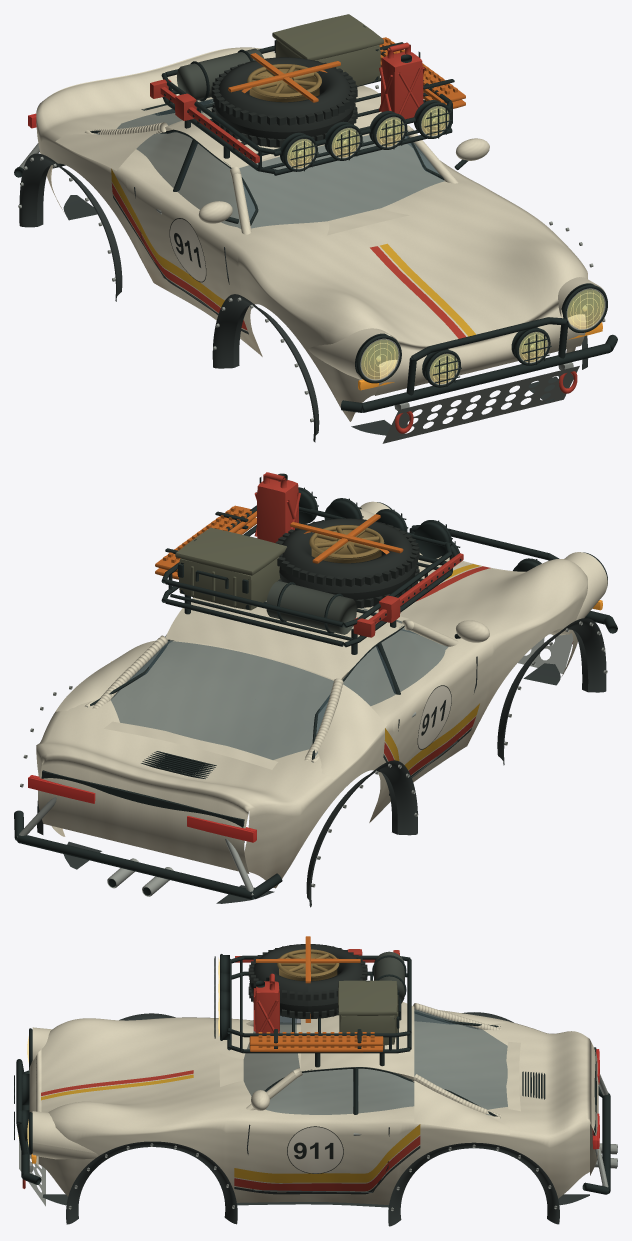
Rendered from safari-body.glb.
3 views of the same model, one above another, from view 1: azimuth 30°, elevation 25°; view 2: azimuth 150°, elevation 25°; view 3: azimuth 270°, elevation 25° (orthographic). The views are drawn at different scales.
Parts seen in each view (by area): view 1: body.continuous_bonnet_shoulders_rear_deck.safari.cream_enam, body.side_with_open_arches.-1.safari.cream_enamel, cabin.front_windscreen.safari.smoky_glazing, cargo.full_size_spare.safari.rubber, arch.flare_shell.safari.charcoal_flare, cargo.olive_gear_case.safari.olive_case, lamps.roof_aux.safari.coated_steel, front.safari.coated_steel, cabin.curved_side_glazing.safari.smoky_glazing, front.safari.brushed_alloy, body.rounded_front_valance.safari.cream_enamel, rack.safari.coated_steel (+24 smaller); view 2: body.continuous_bonnet_shoulders_rear_deck.safari.cream_enam, cabin.rear_glass_same_continuous_roof_arc.safari.smoky_glazi, body.side_with_open_arches.-1.safari.cream_enamel, body.rounded_rear_valance.safari.cream_enamel, cabin.rounded_roof_crown.safari.cream_enamel, cargo.full_size_spare.safari.rubber, cargo.olive_gear_case.safari.olive_case, rear.safari.coated_steel, rack.safari.coated_steel, cabin.sculpted_closed_rear_quarter.safari.cream_enamel, arch.flare_shell.safari.charcoal_flare, cabin.curved_side_glazing.safari.smoky_glazing (+21 smaller); view 3: body.continuous_bonnet_shoulders_rear_deck.safari.cream_enam, body.side_with_open_arches.1.safari.cream_enamel, cabin.rear_glass_same_continuous_roof_arc.safari.smoky_glazi, cabin.curved_side_glazing.safari.smoky_glazing, arch.flare_shell.safari.charcoal_flare, cargo.full_size_spare.safari.rubber, cargo.olive_gear_case.safari.olive_case, cabin.rounded_roof_crown.safari.cream_enamel, cabin.sculpted_closed_rear_quarter.safari.cream_enamel, rack.safari.coated_steel, cargo.stacked_traction_boards.safari.recovery_orange, livery.conformed_911_roundel.safari.911_roundel (+25 smaller).
Boxes of the visible parts, x1,y1,x2,y2 form: body.continuous_bonnet_shoulders_rear_deck.safari.cream_enam: [36, 47, 587, 347]; body.side_with_open_arches.-1.safari.cream_enamel: [36, 117, 377, 421]; cabin.front_windscreen.safari.smoky_glazing: [239, 135, 444, 228]; cargo.full_size_spare.safari.rubber: [211, 57, 357, 147]; arch.flare_shell.safari.charcoal_flare: [19, 153, 319, 442]; cargo.olive_gear_case.safari.olive_case: [272, 14, 383, 85]; lamps.roof_aux.safari.coated_steel: [280, 100, 452, 171]; front.safari.coated_steel: [340, 317, 617, 412]; cabin.curved_side_glazing.safari.smoky_glazing: [95, 132, 436, 228]; front.safari.brushed_alloy: [382, 362, 579, 443]; body.rounded_front_valance.safari.cream_enamel: [375, 303, 585, 395]; rack.safari.coated_steel: [161, 45, 452, 175]; body.continuous_bonnet_shoulders_rear_deck.safari.cream_enam: [36, 509, 587, 809]; cabin.rear_glass_same_continuous_roof_arc.safari.smoky_glazi: [111, 641, 333, 759]; body.side_with_open_arches.-1.safari.cream_enamel: [244, 582, 587, 888]; body.rounded_rear_valance.safari.cream_enamel: [38, 756, 249, 873]; cabin.rounded_roof_crown.safari.cream_enamel: [165, 597, 404, 679]; cargo.full_size_spare.safari.rubber: [275, 518, 419, 608]; cargo.olive_gear_case.safari.olive_case: [175, 527, 286, 610]; rear.safari.coated_steel: [14, 751, 282, 899]; rack.safari.coated_steel: [161, 505, 452, 654]; cabin.sculpted_closed_rear_quarter.safari.cream_enamel: [55, 640, 386, 779]; arch.flare_shell.safari.charcoal_flare: [306, 618, 606, 907]; cabin.curved_side_glazing.safari.smoky_glazing: [132, 628, 447, 756]; body.continuous_bonnet_shoulders_rear_deck.safari.cream_enam: [38, 1014, 589, 1139]; body.side_with_open_arches.1.safari.cream_enamel: [38, 1122, 589, 1204]; cabin.rear_glass_same_continuous_roof_arc.safari.smoky_glazi: [414, 1008, 507, 1109]; cabin.curved_side_glazing.safari.smoky_glazing: [265, 1014, 492, 1115]; arch.flare_shell.safari.charcoal_flare: [66, 1012, 559, 1226]; cargo.full_size_spare.safari.rubber: [248, 944, 367, 1018]; cargo.olive_gear_case.safari.olive_case: [338, 980, 398, 1045]; cabin.rounded_roof_crown.safari.cream_enamel: [301, 1002, 414, 1077]; cabin.sculpted_closed_rear_quarter.safari.cream_enamel: [414, 1010, 509, 1134]; rack.safari.coated_steel: [227, 955, 411, 1067]; cargo.stacked_traction_boards.safari.recovery_orange: [249, 1032, 383, 1052]; livery.conformed_911_roundel.safari.911_roundel: [287, 1126, 343, 1173].
Size of the model in its own units: 2.61 by 2.02 by 5.06.
Materials: 18 (2 with a texture image).
